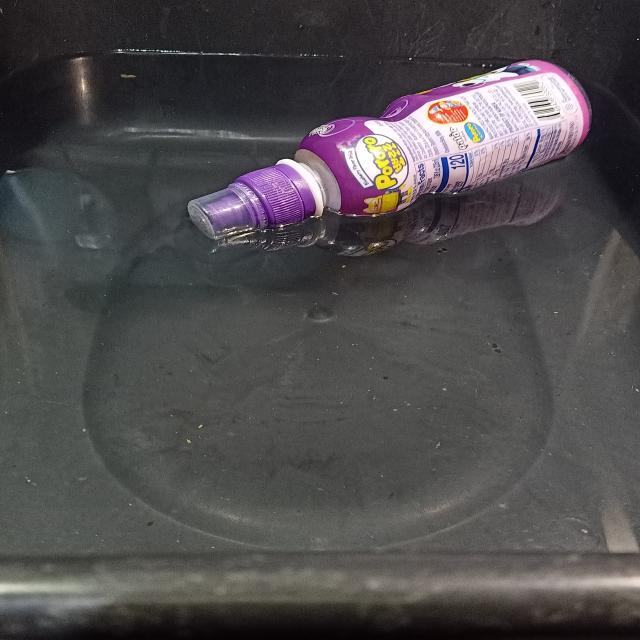Plastic Bottle: (188, 60, 591, 256)
